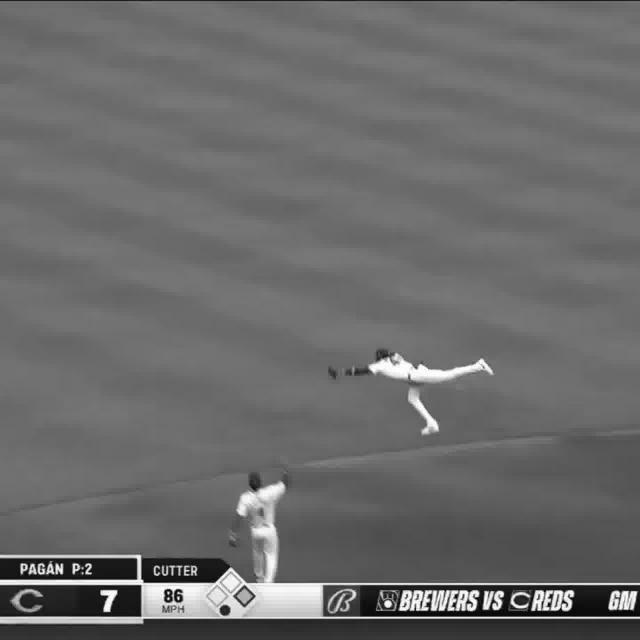baseball_glove: (326, 362, 338, 383), (227, 536, 240, 550)
shoe: (477, 358, 495, 380), (420, 423, 439, 438)
